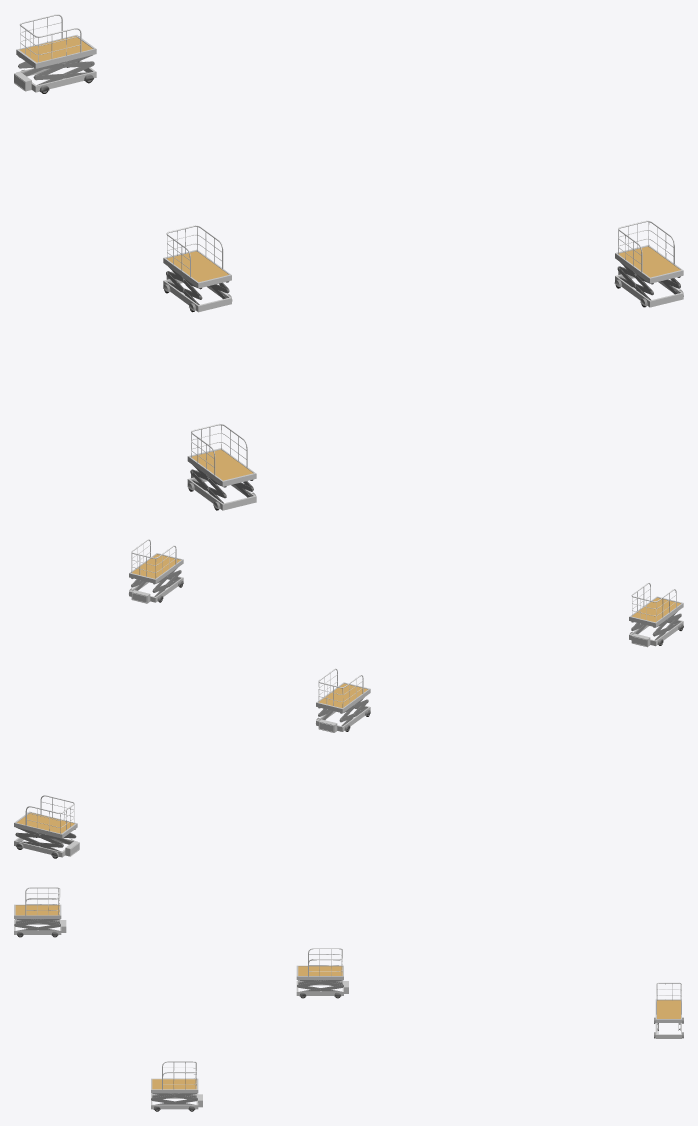
Rendered from trolleys.glb.
The picture shows the model from 3 angles, top to bottom: view 1: azimuth 30°, elevation 25°; view 2: azimuth 150°, elevation 25°; view 3: azimuth 270°, elevation 25°; orthographic projection. The views are drawn at different scales.
Visible parts, largest first — view 1: 18. ondo; view 2: 18. ondo; view 3: 18. ondo.
Part boxes in pixels (x1,y1,x2,y2): 18. ondo: (14,14,683,510); 18. ondo: (14,539,683,858); 18. ondo: (14,887,683,1111).
Bounding box in the file's own units: 11.97 × 1.15 × 18.13.
